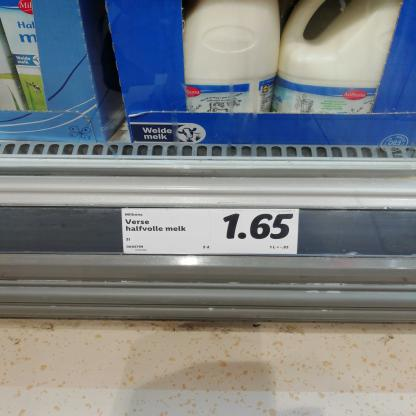prtg: (122, 210, 300, 256)
